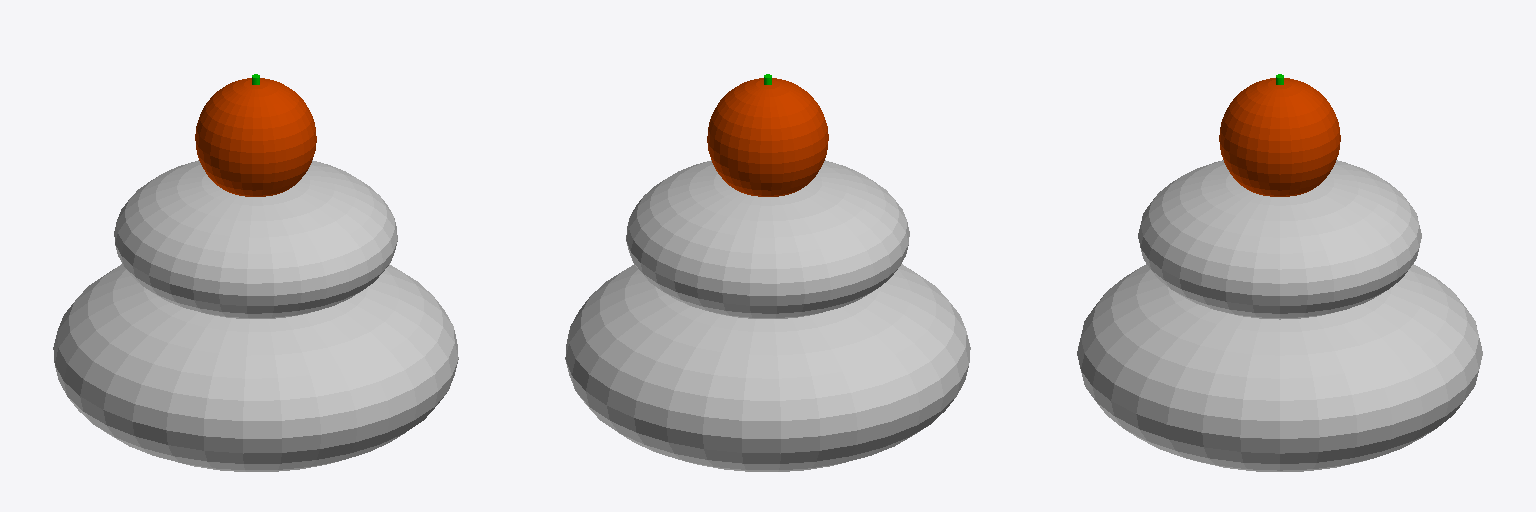
File: mochi.obj
3 renders of one model, left to right at view 1: azimuth 30°, elevation 25°; view 2: azimuth 150°, elevation 25°; view 3: azimuth 270°, elevation 25°, orthographic.
Visible parts, largest first — view 1: 球, 球.001, 球.002; view 2: 球, 球.001, 球.002; view 3: 球, 球.001, 球.002.
Boxes of the visible parts, box(x1,y1,x2,y2) form: 球: box(53, 264, 458, 471); 球.001: box(114, 160, 397, 318); 球.002: box(195, 78, 316, 196); 球: box(565, 264, 970, 471); 球.001: box(626, 160, 909, 318); 球.002: box(707, 78, 828, 196); 球: box(1077, 264, 1482, 471); 球.001: box(1138, 160, 1421, 319); 球.002: box(1219, 78, 1340, 196).
Bounding box in the file's own units: 2 × 1.96 × 2.